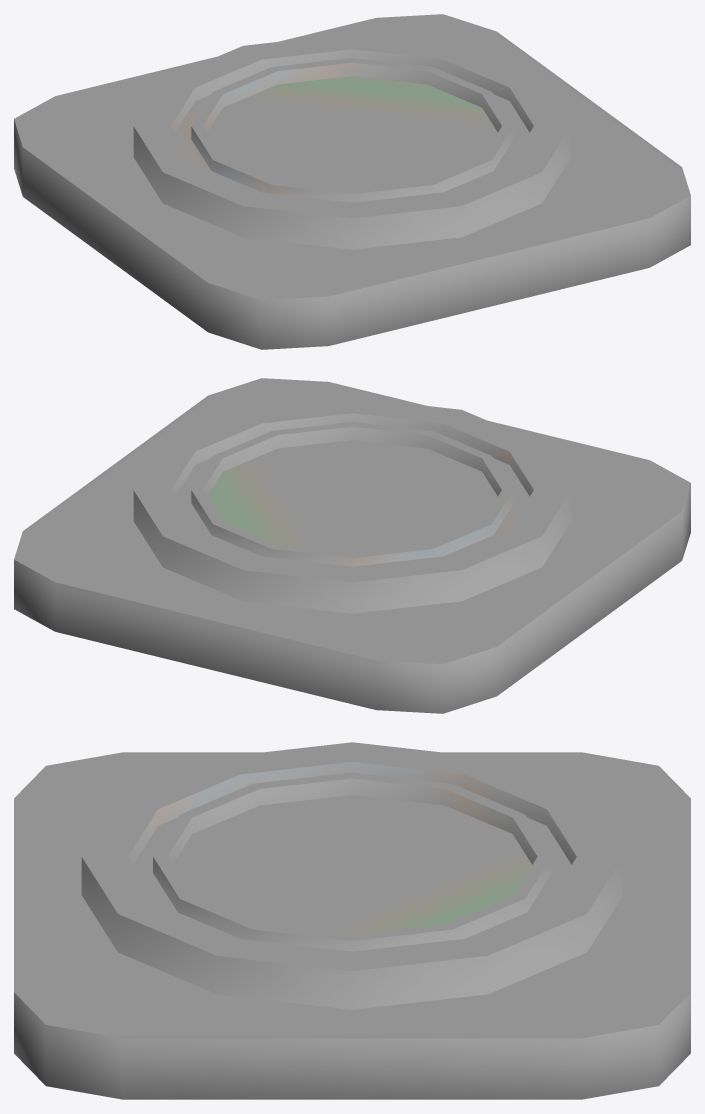
The model's file is Teleport.fbx.
The picture shows the model from 3 angles, top to bottom: view 1: azimuth 30°, elevation 25°; view 2: azimuth 150°, elevation 25°; view 3: azimuth 270°, elevation 25°; orthographic projection. The views are drawn at different scales.
Parts seen in each view (by area): view 1: Cube; view 2: Cube; view 3: Cube.
Part boxes in pixels (bbox=[...]): Cube: bbox=[14, 14, 690, 349]; Cube: bbox=[14, 378, 690, 713]; Cube: bbox=[14, 742, 690, 1099].
Size of the model in its own units: 100 by 16.29 by 100.
